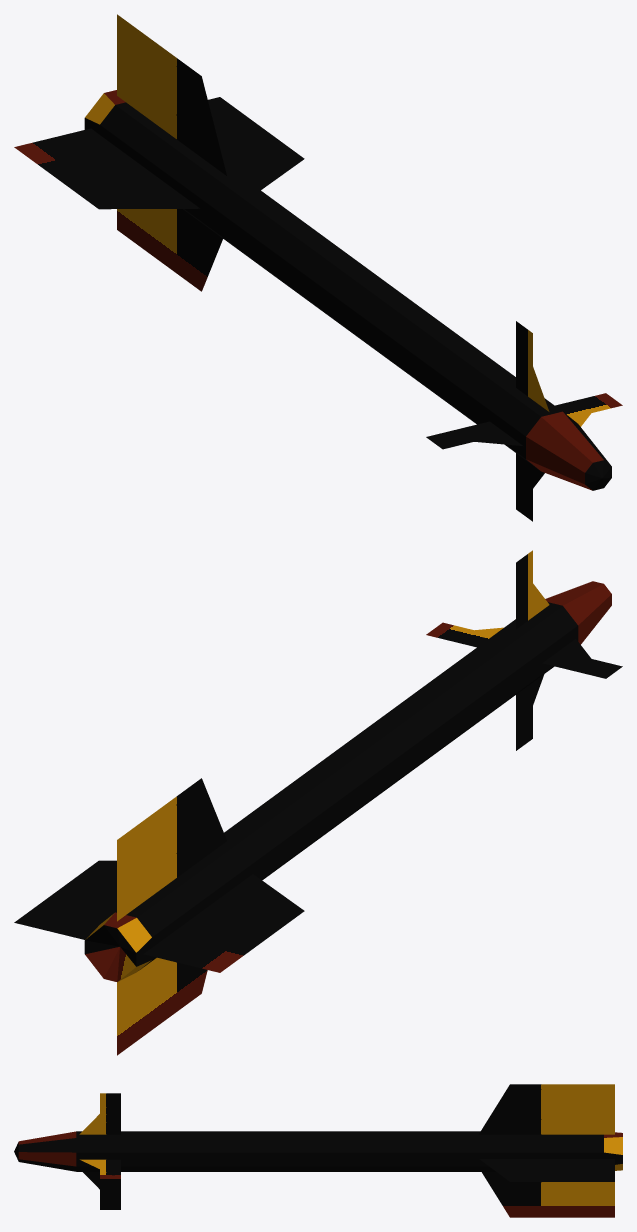
The model's file is aim9p5.obj.
3 views of the same model, one above another, from view 1: azimuth 30°, elevation 25°; view 2: azimuth 150°, elevation 25°; view 3: azimuth 270°, elevation 25° (orthographic). The views are drawn at different scales.
Visible parts, largest first — view 1: cylinder1, plane4, plane5, plane6, plane3, cylinder3, plane1, 9, 7, 2, cylinder2; view 2: cylinder1, plane4, plane5, plane6, plane3, cylinder2, cylinder3, plane1, 9, 7, 2; view 3: cylinder1, plane4, plane6, plane3, cylinder3, plane1, 7, cylinder2, 2.
Part boxes in pixels (<box>): cylinder1: <box>100,102,562,469</box>; plane4: <box>117,14,226,175</box>; plane5: <box>14,128,199,209</box>; plane6: <box>117,209,222,291</box>; plane3: <box>208,97,304,190</box>; cylinder3: <box>526,411,610,490</box>; plane1: <box>516,321,549,411</box>; 9: <box>426,421,522,449</box>; 7: <box>516,453,544,521</box>; 2: <box>555,393,622,426</box>; cylinder2: <box>84,90,125,134</box>; cylinder1: <box>115,602,578,969</box>; plane4: <box>117,778,226,921</box>; plane5: <box>143,874,304,972</box>; plane6: <box>117,957,207,1055</box>; plane3: <box>14,860,116,939</box>; cylinder2: <box>84,912,152,982</box>; cylinder3: <box>545,581,611,644</box>; plane1: <box>516,550,549,629</box>; 9: <box>542,639,622,678</box>; 7: <box>516,674,544,750</box>; 2: <box>426,622,503,647</box>; cylinder1: <box>76,1131,603,1171</box>; plane4: <box>479,1084,614,1134</box>; plane6: <box>482,1172,614,1217</box>; plane3: <box>479,1159,614,1181</box>; cylinder3: <box>18,1131,76,1171</box>; plane1: <box>79,1093,120,1134</box>; 7: <box>83,1172,120,1209</box>; cylinder2: <box>604,1132,622,1170</box>; 2: <box>80,1159,120,1178</box>.
Bounding box in the file's own units: 0.625 × 0.625 × 2.58.
